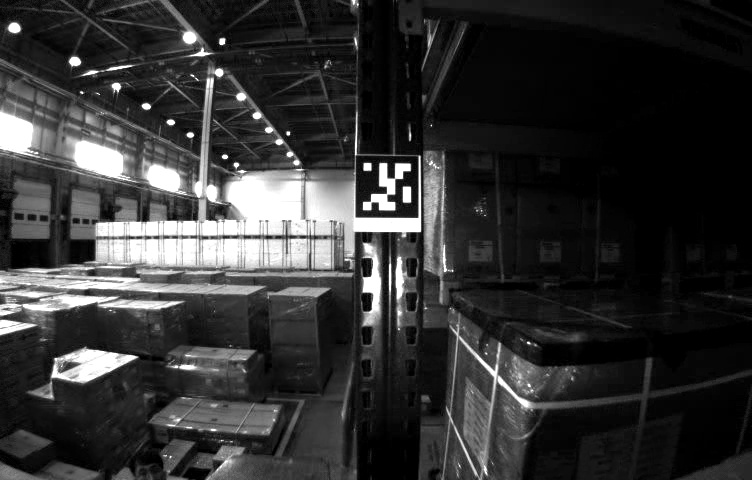True Barcode: (536, 452, 574, 479)
